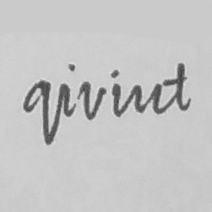i: (57, 61, 77, 118), (109, 67, 124, 120)
q: (21, 77, 53, 146)
t: (163, 60, 193, 113)
u: (131, 81, 161, 116)
v: (79, 81, 107, 121)
